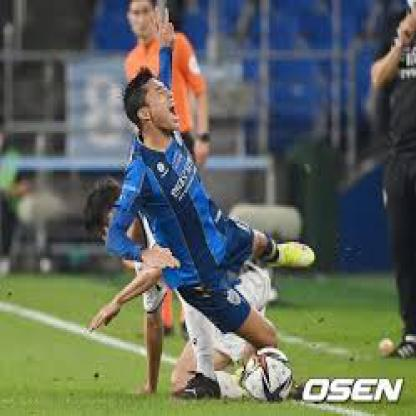Fall_Down: (105, 3, 318, 402)
